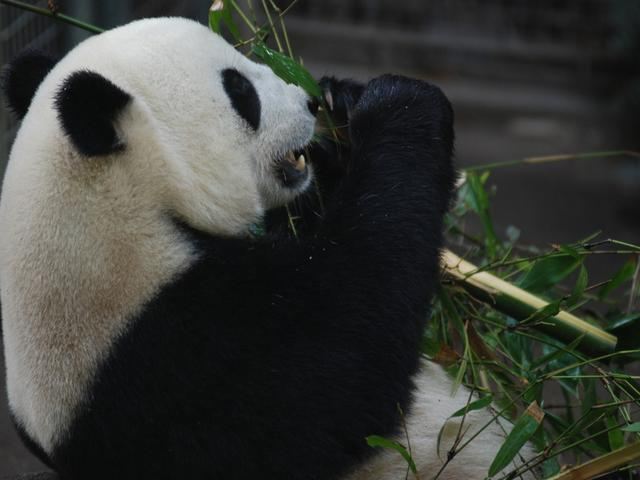panda: (11, 10, 535, 480)
